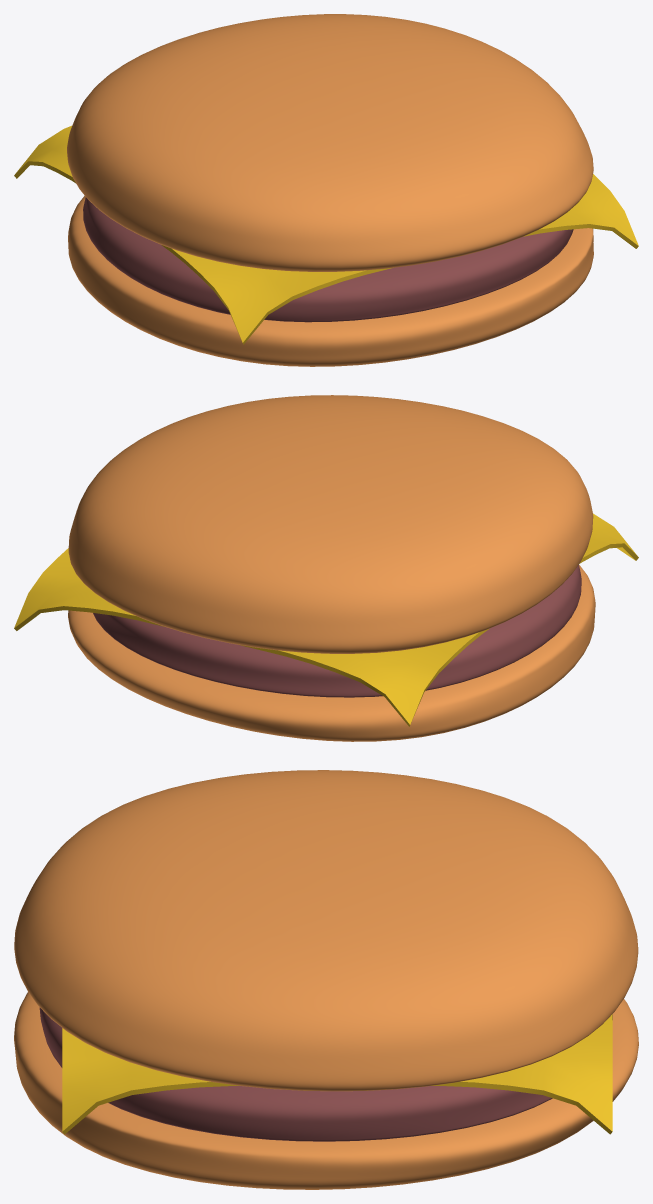
The model's file is hamburger.glb.
The picture shows the model from 3 angles, top to bottom: view 1: azimuth 30°, elevation 25°; view 2: azimuth 150°, elevation 25°; view 3: azimuth 270°, elevation 25°; orthographic projection. The views are drawn at different scales.
Parts seen in each view (by area): view 1: Cube.002, Cube, Cube.001, Plane; view 2: Cube.002, Cube, Cube.001, Plane; view 3: Cube.002, Cube, Cube.001, Plane.
Part boxes in pixels (x1,y1,x2,y2): Cube.002: (67, 14, 593, 271); Cube: (68, 195, 593, 366); Cube.001: (83, 197, 573, 322); Plane: (14, 125, 638, 344); Cube.002: (68, 395, 593, 653); Cube: (68, 565, 595, 741); Cube.001: (93, 565, 581, 697); Plane: (14, 513, 638, 726); Cube.002: (14, 770, 638, 1091); Cube: (14, 992, 638, 1189); Cube.001: (39, 1007, 612, 1141); Plane: (62, 1014, 612, 1134).
Bounding box in the file's own units: 9.06 × 3.72 × 9.14.
